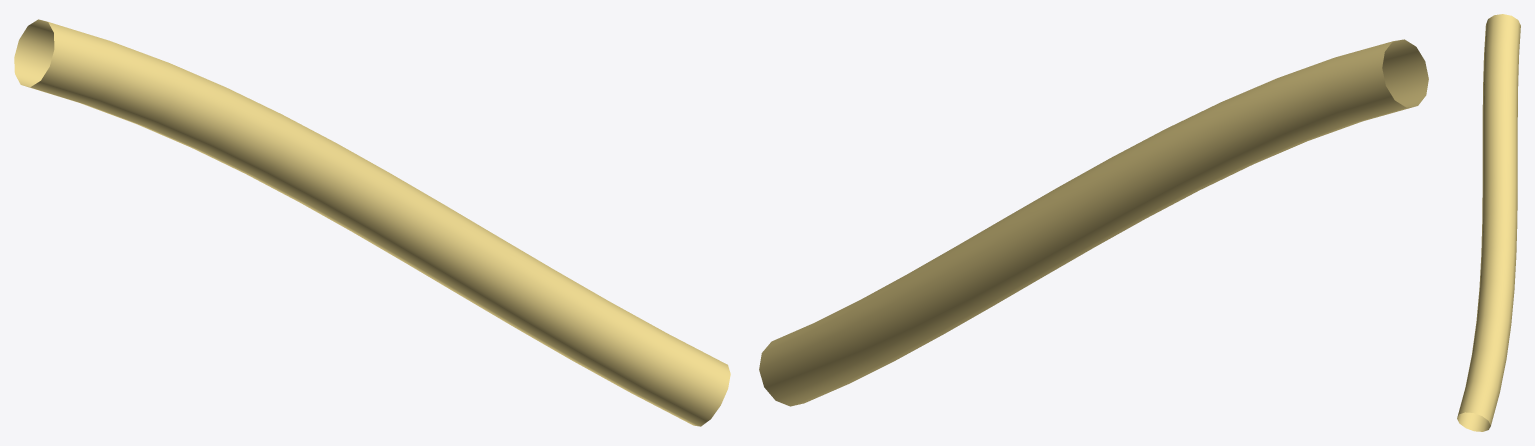
3 renders of one model, left to right at view 1: azimuth 30°, elevation 25°; view 2: azimuth 150°, elevation 25°; view 3: azimuth 270°, elevation 25°, orthographic. The views are drawn at different scales.
Visible parts, largest first — view 1: ZA_8fecb348b5aa53f7; view 2: ZA_8fecb348b5aa53f7; view 3: ZA_8fecb348b5aa53f7.
Part boxes in pixels (x1=…): ZA_8fecb348b5aa53f7: x1=14, y1=19, x2=730, y2=426; ZA_8fecb348b5aa53f7: x1=759, y1=39, x2=1428, y2=406; ZA_8fecb348b5aa53f7: x1=1457, y1=14, x2=1520, y2=431.
Size of the model in its own units: 0.0334 by 0.0251 by 0.00546.
